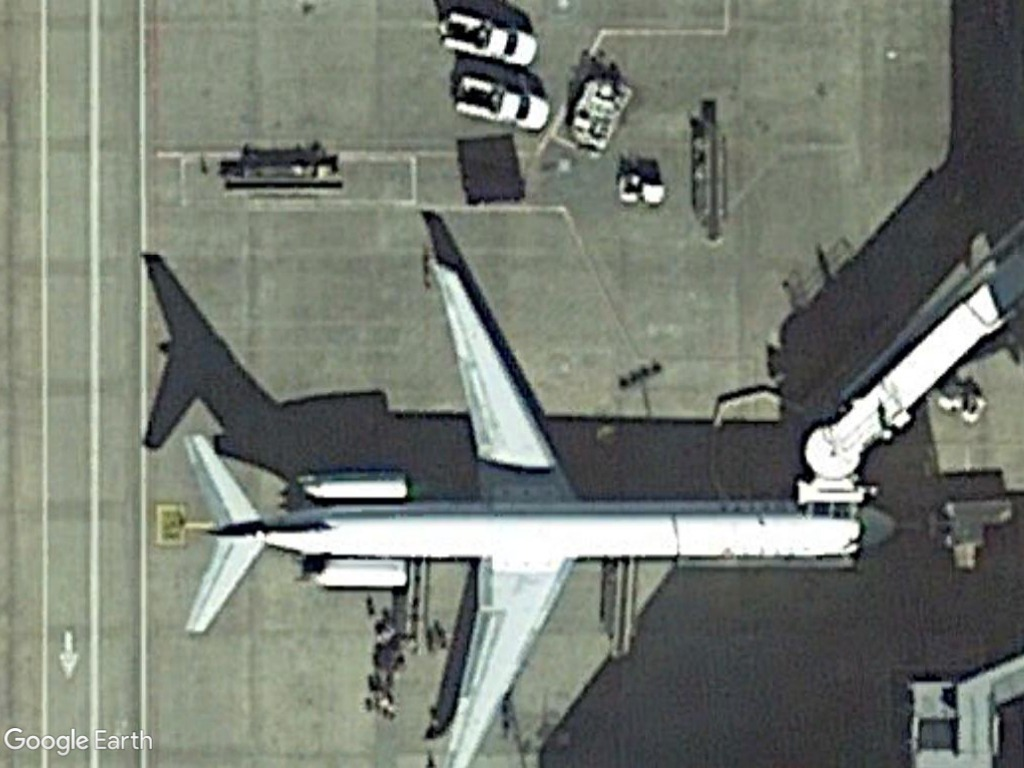chartered: (166, 245, 903, 768)
